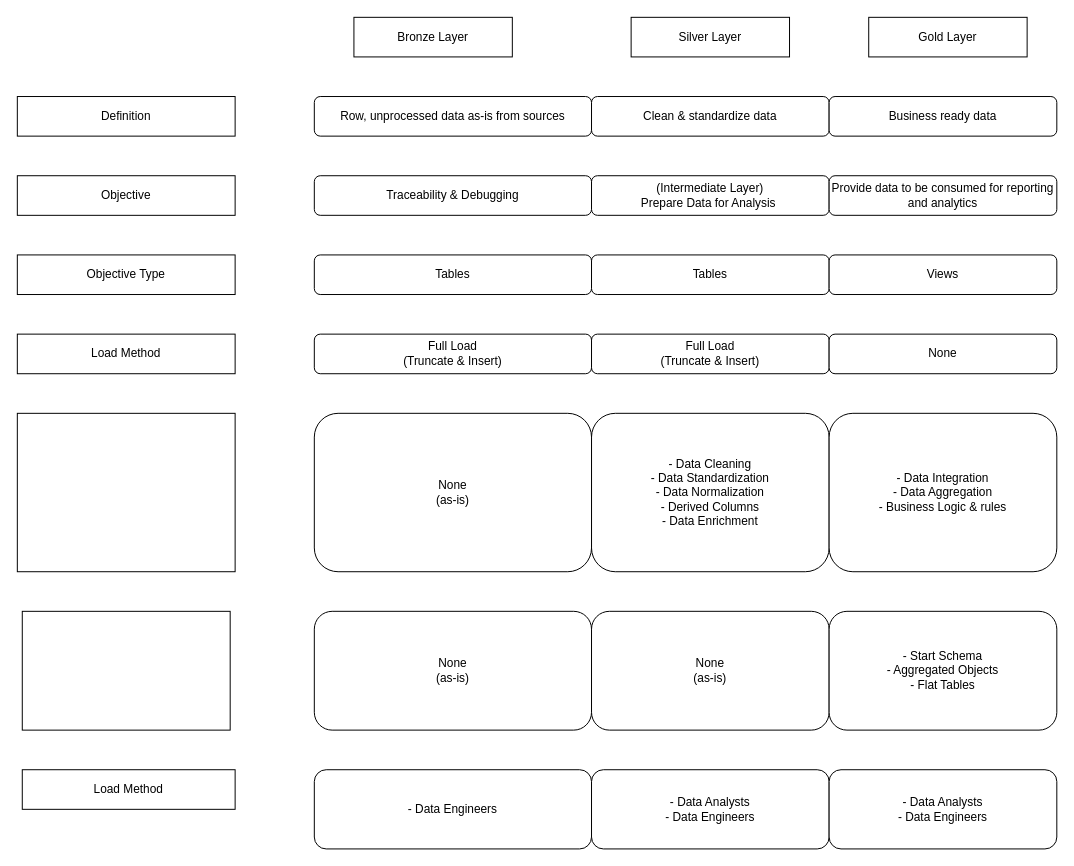
This 1074x866 diagram has some shape labels left out. Here are the shapes that lost their labels. From the top down, the centre of each, then its label:
(x=125, y=492): Transformation
(x=125, y=670): Data Modeling
